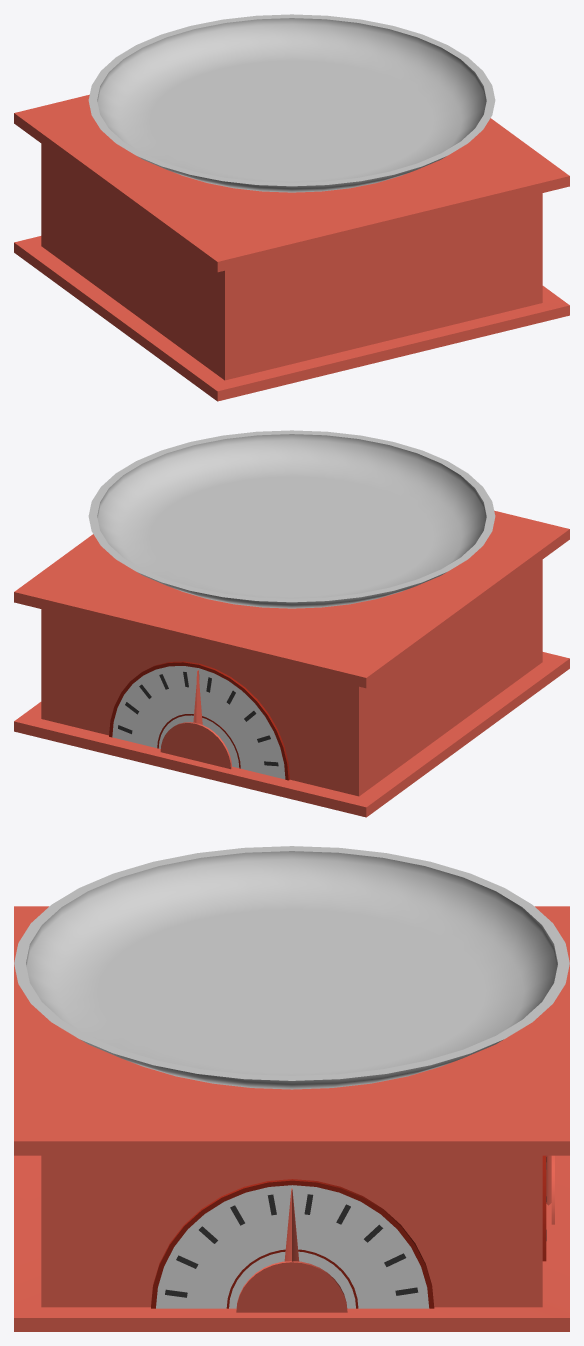
Rendered from cheng_min.obj.
3 renders of one model, top to bottom at view 1: azimuth 30°, elevation 25°; view 2: azimuth 150°, elevation 25°; view 3: azimuth 270°, elevation 25°, orthographic. The views are drawn at different scales.
Parts seen in each view (by area): view 1: shen, tuopan; view 2: shen, tuopan, biaopan, dang, biaohuan, zhizhen; view 3: shen, tuopan, biaopan_1, dang1, biaohuan_1, zhizhen_2, zhizhen1.
Boxes of the visible parts, <box> form: shen: <box>14,94,569,401</box>; tuopan: <box>88,14,495,192</box>; shen: <box>14,510,569,817</box>; tuopan: <box>88,430,495,608</box>; biaopan: <box>112,666,285,779</box>; dang: <box>160,722,232,769</box>; biaohuan: <box>109,661,289,780</box>; zhizhen: <box>118,671,278,766</box>; shen: <box>14,906,569,1331</box>; tuopan: <box>14,846,569,1089</box>; biaopan_1: <box>156,1185,429,1308</box>; dang1: <box>236,1261,347,1312</box>; biaohuan_1: <box>151,1179,434,1308</box>; zhizhen_2: <box>165,1194,418,1297</box>; zhizhen1: <box>284,1188,299,1261</box>.
Bounding box in the file's own units: 10 × 4.98 × 10.
